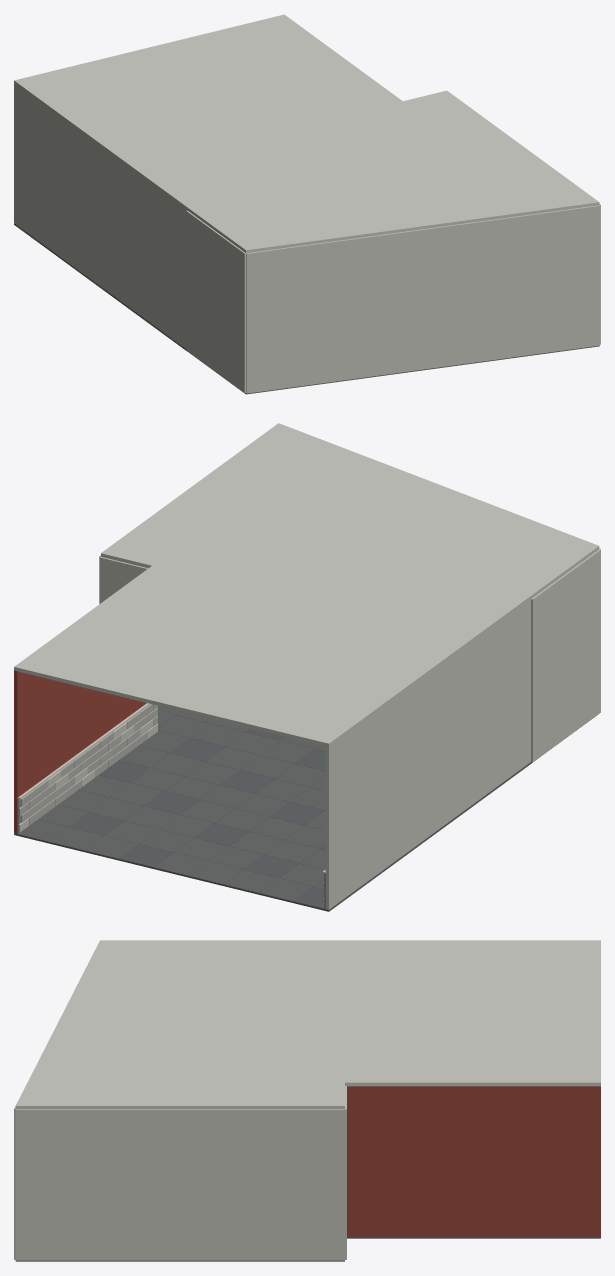
File: room.glb
3 views of the same model, one above another, from view 1: azimuth 30°, elevation 25°; view 2: azimuth 150°, elevation 25°; view 3: azimuth 270°, elevation 25° (orthographic). The views are drawn at different scales.
Parts seen in each view (by area): view 1: 실내 조명 베이크용 room; view 2: 실내 조명 베이크용 room; view 3: 실내 조명 베이크용 room.
Boxes of the visible parts, x1,y1,x2,y2 form: 실내 조명 베이크용 room: (14,14,600,394); 실내 조명 베이크용 room: (14,423,600,911); 실내 조명 베이크용 room: (14,940,600,1261).
Bounding box in the file's own units: 6.49 × 2.82 × 9.63.
